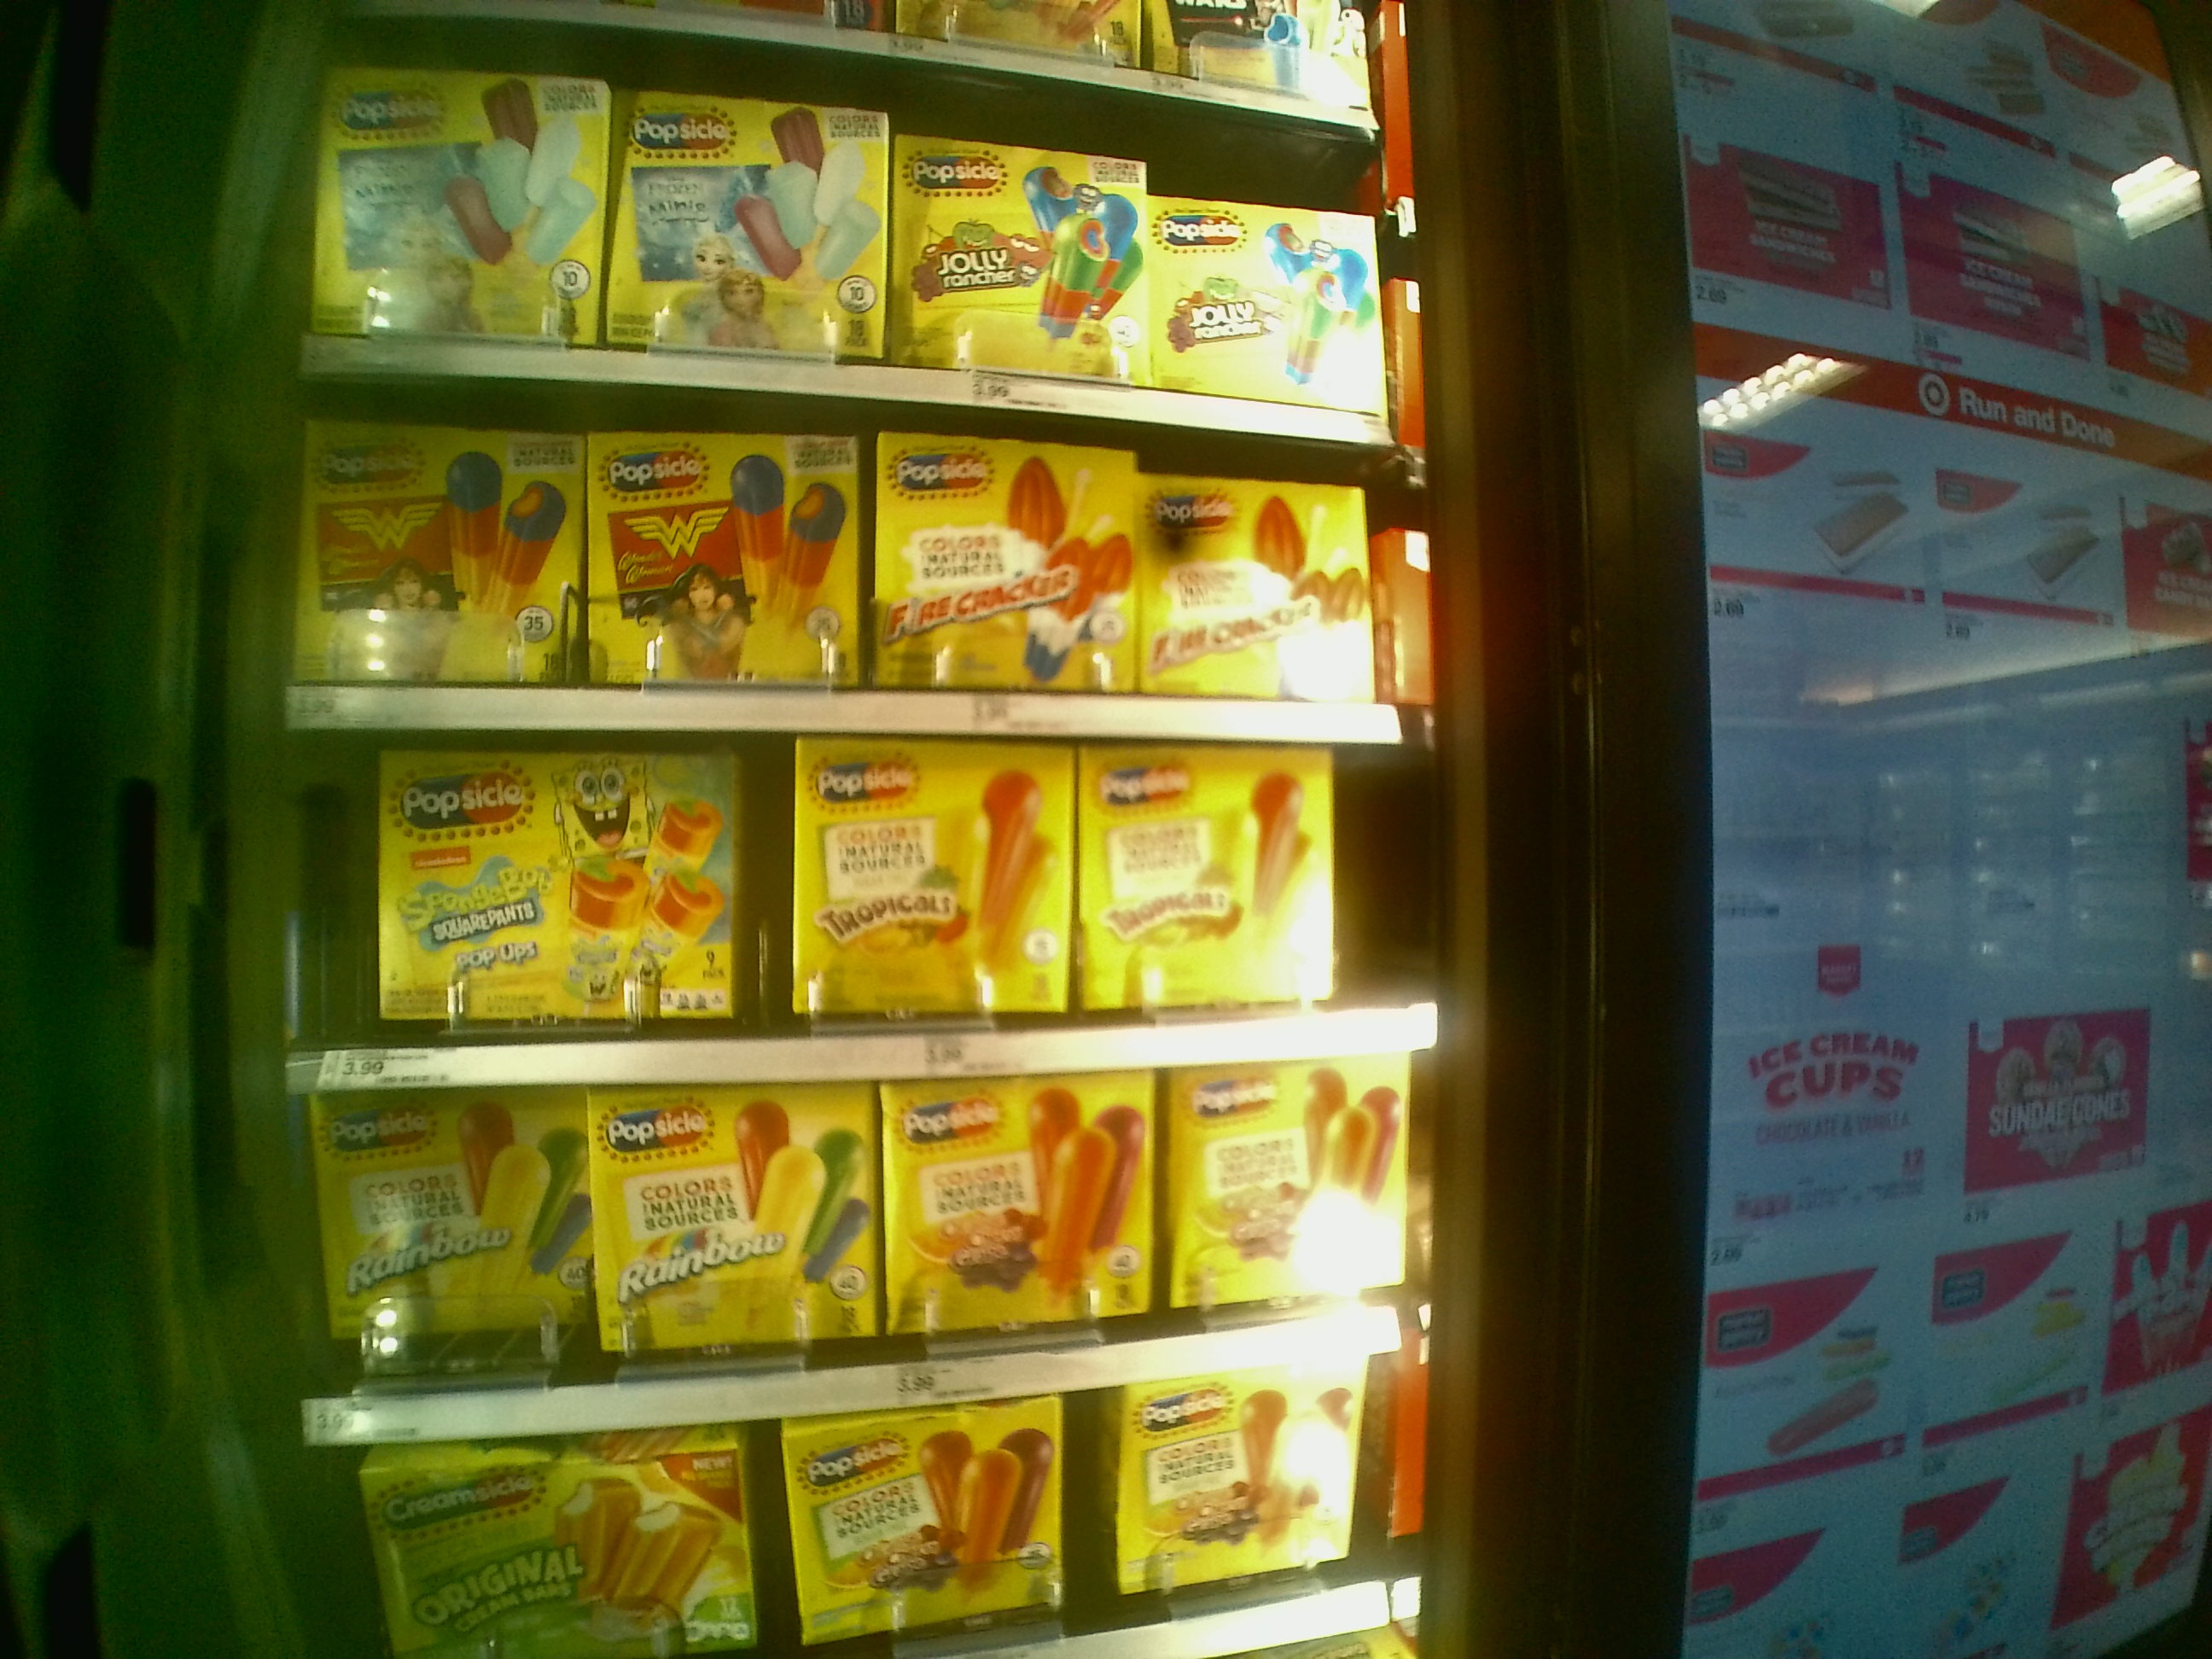shelf: (287, 380, 1430, 751), (293, 746, 1440, 1093), (300, 1101, 1430, 1436)
